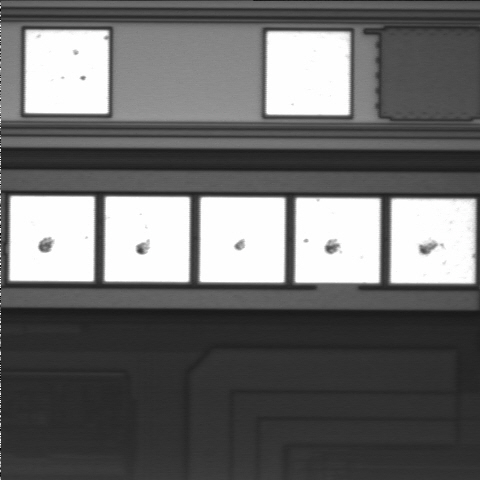pad: (200, 197, 285, 283), (105, 197, 190, 282), (295, 198, 380, 283), (10, 196, 94, 281), (391, 199, 475, 283), (25, 30, 108, 114), (266, 32, 350, 115)
